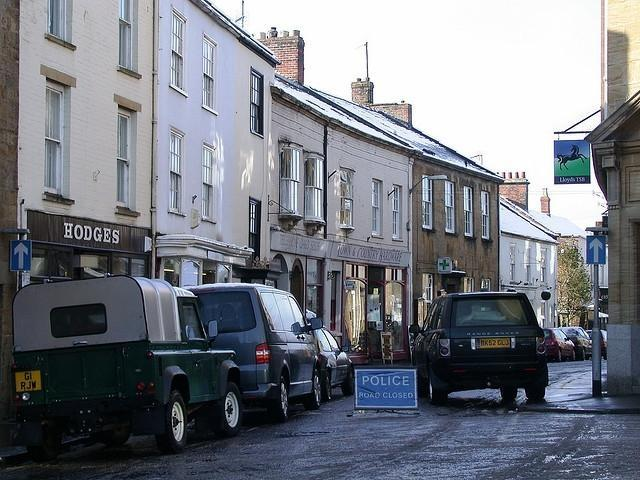car: (183, 283, 324, 421), (410, 292, 548, 401), (303, 315, 355, 400), (544, 329, 578, 362), (561, 328, 593, 361), (585, 330, 608, 362)
truck: (8, 278, 244, 456)
